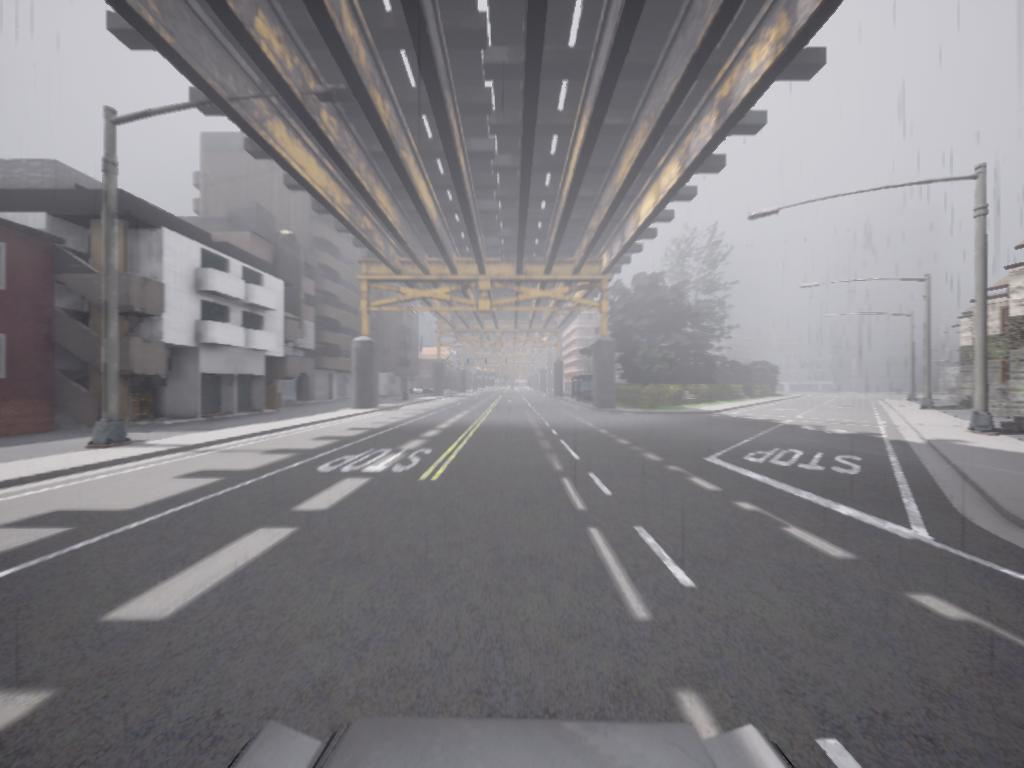traffic_light: (485, 359, 489, 366), (467, 359, 471, 364), (506, 358, 508, 365), (518, 363, 520, 369)
